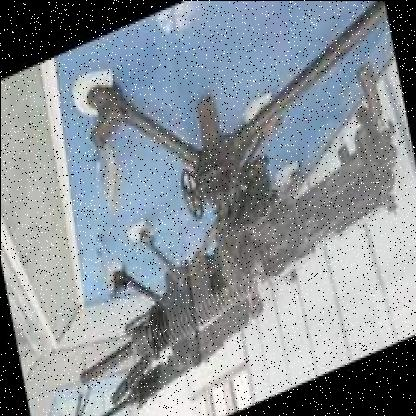rifle: (53, 132, 411, 389)
